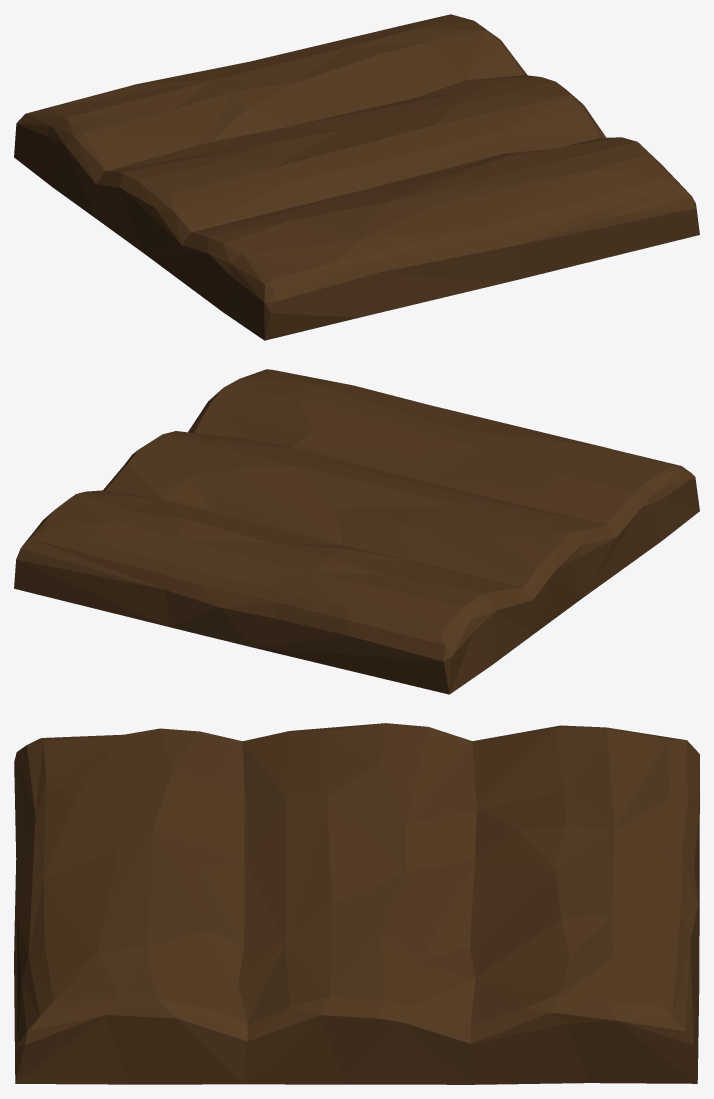
The model's file is Cropland.fbx.
The picture shows the model from 3 angles, top to bottom: view 1: azimuth 30°, elevation 25°; view 2: azimuth 150°, elevation 25°; view 3: azimuth 270°, elevation 25°; orthographic projection. The views are drawn at different scales.
Parts seen in each view (by area): view 1: Feld; view 2: Feld; view 3: Feld.
Part boxes in pixels (x1,y1,x2,y2): Feld: (14,14,699,340); Feld: (14,369,699,694); Feld: (14,723,699,1084).
Bounding box in the file's own units: 99.89 × 13.67 × 100.
